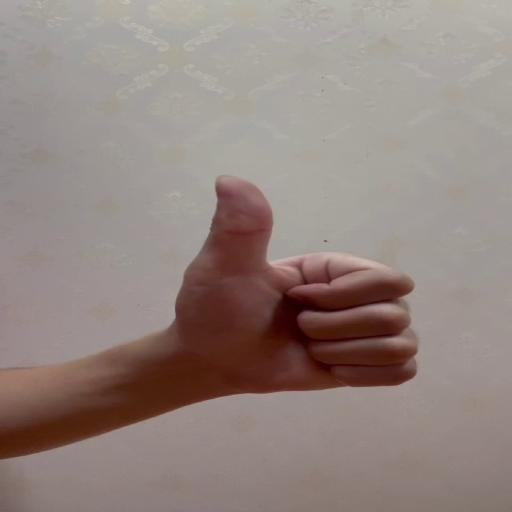thumbs_up: (182, 172, 422, 397)
